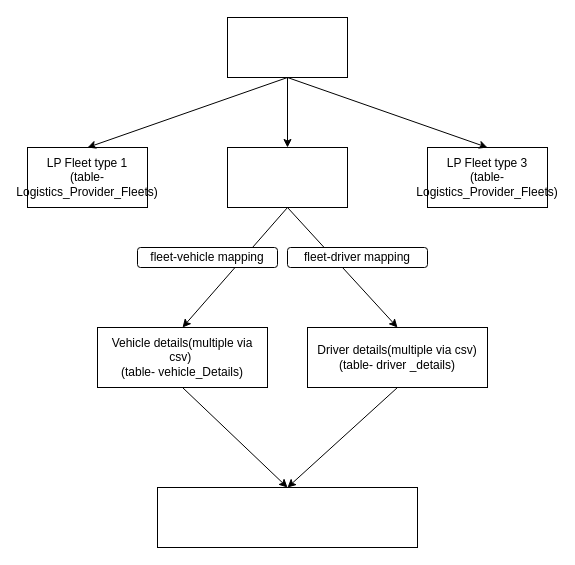
Image size: 575x565. Some labels were removed from this diagram. The shapes that lost their labels are listed below. From the top down, each one's centre as x and y in pixels, then its label:
At [287,47]: "Lp (table- Logistics_Providers)".
At [287,177]: "LP Fleet type 2 (table-Logistics_Provider_Fleets)".
At [287,517]: "table- Vehicle_Driver_Mappings".
